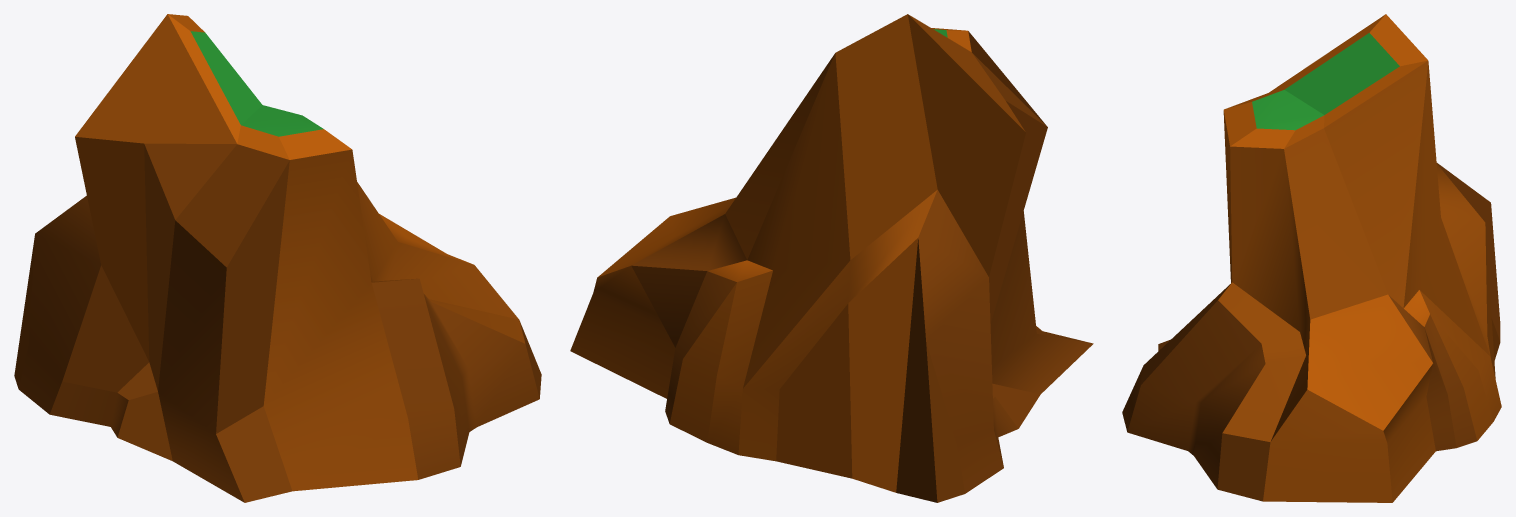
File: Rock_3.fbx
3 views of the same model, side by side, from view 1: azimuth 30°, elevation 25°; view 2: azimuth 150°, elevation 25°; view 3: azimuth 270°, elevation 25° (orthographic). The views are drawn at different scales.
Parts seen in each view (by area): view 1: Rock_3; view 2: Rock_3; view 3: Rock_3.
Boxes of the visible parts, x1,y1,x2,y2 form: Rock_3: [14, 14, 541, 502]; Rock_3: [570, 14, 1093, 502]; Rock_3: [1122, 14, 1501, 502].
Bounding box in the file's own units: 985 × 878 × 860.
Materials: 1 (1 with a texture image).
